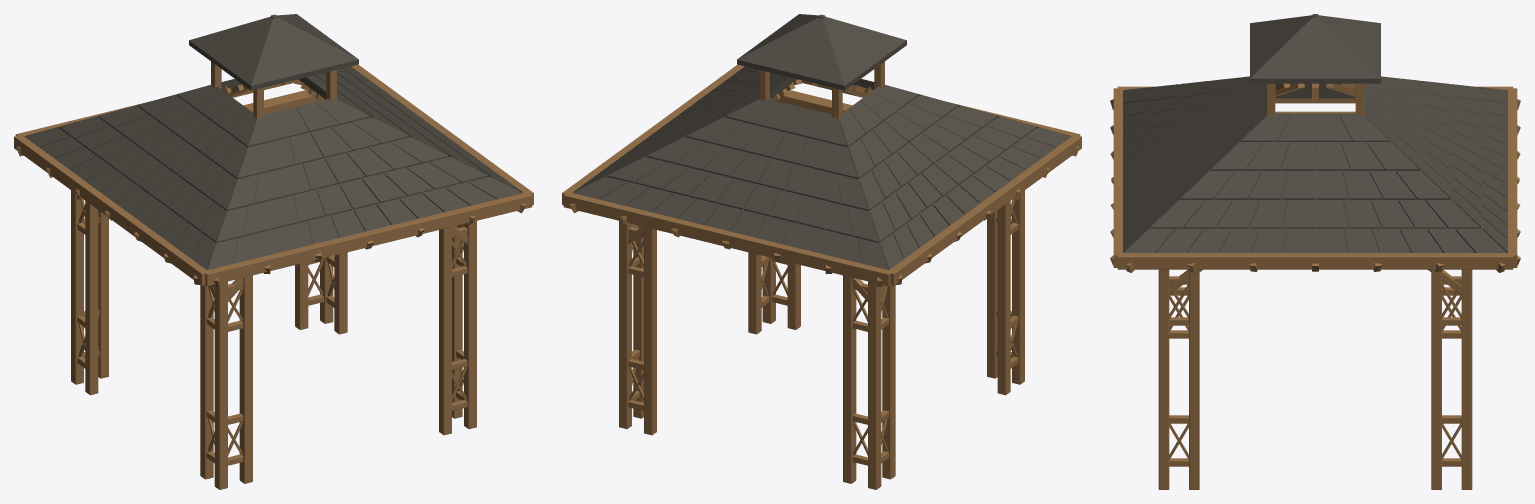
Rendered from A-NEW-20261026-GARDEN-GAZEBO-001_LOD1_R2.glb.
The picture shows the model from 3 angles, left to right: view 1: azimuth 30°, elevation 25°; view 2: azimuth 150°, elevation 25°; view 3: azimuth 270°, elevation 25°; orthographic projection. The views are drawn at different scales.
Parts seen in each view (by area): view 1: deep eave fascia.002, small cupola hip.002, deep eave fascia.001, small cupola hip.001, corner support post, corner support post.001, corner support post.007, corner support post.005, corner support post.006, corner support post.002, corner support post.003, corner support post.004 (+77 smaller); view 2: deep eave fascia, small cupola hip, deep eave fascia.001, small cupola hip.001, corner support post.003, corner support post.004, corner support post.010, corner support post.002, corner support post.009, corner support post.005, corner support post, corner support post.001 (+77 smaller); view 3: deep eave fascia.003, small cupola hip.003, corner support post.006, corner support post.009, corner support post.008, corner support post.011, small cupola hip, small cupola hip.002, deep eave fascia, deep eave fascia.002, main hipped roof panel.003, main hipped roof panel (+43 smaller).
Boxes of the visible parts, bbox=[...] form: deep eave fascia.002: bbox=[205, 192, 532, 286]; small cupola hip.002: bbox=[251, 17, 358, 90]; deep eave fascia.001: bbox=[14, 135, 209, 285]; small cupola hip.001: bbox=[189, 16, 272, 90]; corner support post: bbox=[214, 281, 227, 489]; corner support post.001: bbox=[239, 275, 252, 483]; corner support post.007: bbox=[439, 227, 451, 435]; corner support post.005: bbox=[85, 201, 98, 395]; corner support post.006: bbox=[464, 221, 476, 428]; corner support post.002: bbox=[200, 285, 213, 479]; corner support post.003: bbox=[71, 190, 83, 384]; corner support post.004: bbox=[98, 210, 108, 378]; deep eave fascia: bbox=[563, 193, 892, 286]; small cupola hip: bbox=[737, 17, 844, 90]; deep eave fascia.001: bbox=[889, 134, 1081, 285]; small cupola hip.001: bbox=[823, 16, 906, 90]; corner support post.003: bbox=[868, 281, 881, 489]; corner support post.004: bbox=[843, 275, 856, 483]; corner support post.010: bbox=[644, 227, 656, 435]; corner support post.002: bbox=[997, 201, 1010, 395]; corner support post.009: bbox=[619, 221, 631, 428]; corner support post.005: bbox=[882, 285, 895, 479]; corner support post: bbox=[1012, 190, 1024, 384]; corner support post.001: bbox=[987, 210, 997, 378]; deep eave fascia.003: bbox=[1117, 253, 1513, 269]; small cupola hip.003: bbox=[1250, 17, 1380, 83]; corner support post.006: bbox=[1158, 269, 1169, 489]; corner support post.009: bbox=[1461, 269, 1472, 489]; corner support post.008: bbox=[1189, 269, 1199, 489]; corner support post.011: bbox=[1431, 269, 1441, 489]; small cupola hip: bbox=[1318, 15, 1380, 77]; small cupola hip.002: bbox=[1250, 15, 1312, 77]; deep eave fascia: bbox=[1507, 88, 1517, 267]; deep eave fascia.002: bbox=[1113, 88, 1123, 267]; main hipped roof panel.003: bbox=[1150, 114, 1480, 252]; main hipped roof panel: bbox=[1390, 79, 1482, 229].
Bounding box in the file's own units: 4.07 × 4.48 × 4.07.
